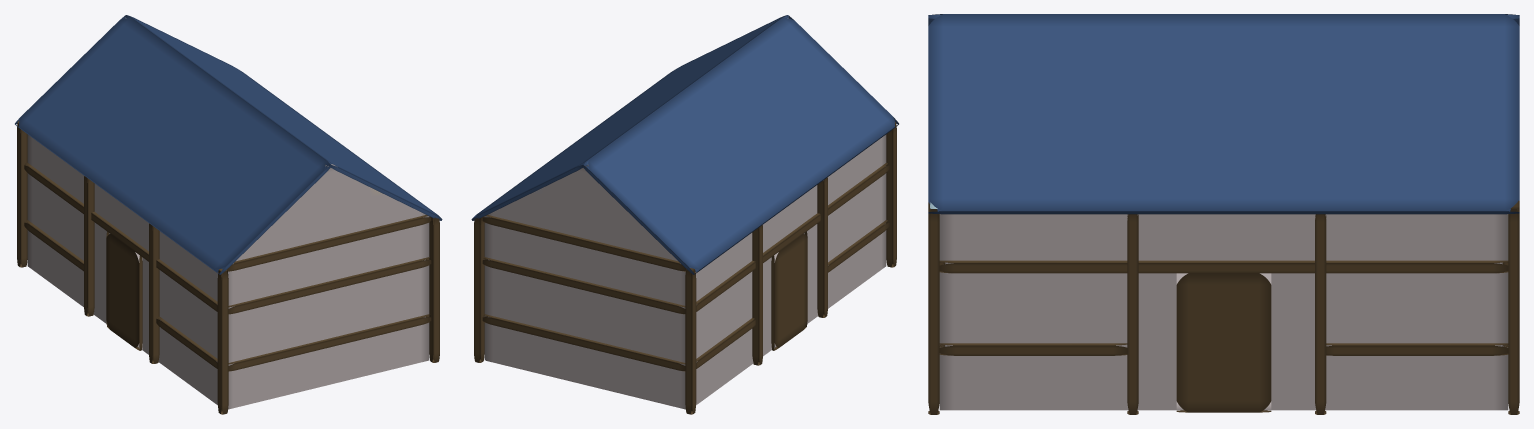
File: WismarHouse1.fbx
3 views of the same model, side by side, from view 1: azimuth 30°, elevation 25°; view 2: azimuth 150°, elevation 25°; view 3: azimuth 270°, elevation 25° (orthographic). The views are drawn at different scales.
Visible parts, largest first — view 1: house, roof, roof_1, door, hor, hor_7, hor_8, hor_9, vert_3, vert_6, vert, vert_2 (+2 smaller); view 2: house, roof, roof_1, door, hor, hor_5, hor_4, hor_6, vert_2, vert_4, vert_3, vert_1 (+2 smaller); view 3: roof_1, house, door, hor_3, hor_2, vert_4, vert_6, vert_7, vert_5, roof.
Boxes of the visible parts, bbox=[...] form: house: bbox=[27, 134, 429, 409]; roof: bbox=[15, 15, 331, 274]; roof_1: bbox=[125, 15, 442, 220]; door: bbox=[106, 231, 142, 350]; hor: bbox=[24, 163, 217, 311]; hor_7: bbox=[228, 314, 431, 371]; hor_8: bbox=[228, 257, 431, 314]; hor_9: bbox=[227, 215, 431, 271]; vert_3: bbox=[217, 268, 228, 414]; vert_6: bbox=[429, 217, 439, 362]; vert: bbox=[84, 176, 94, 316]; vert_2: bbox=[17, 121, 27, 267]; house: bbox=[484, 134, 886, 409]; roof: bbox=[582, 15, 898, 274]; roof_1: bbox=[471, 15, 788, 220]; door: bbox=[771, 231, 807, 350]; hor: bbox=[696, 163, 889, 311]; hor_5: bbox=[482, 314, 685, 371]; hor_4: bbox=[482, 257, 685, 314]; hor_6: bbox=[482, 215, 685, 271]; vert_2: bbox=[685, 268, 696, 414]; vert_4: bbox=[474, 217, 484, 362]; vert_3: bbox=[886, 122, 896, 267]; vert_1: bbox=[817, 177, 827, 317]; roof_1: bbox=[928, 14, 1519, 214]; house: bbox=[939, 214, 1508, 410]; door: bbox=[1176, 273, 1271, 412]; hor_3: bbox=[939, 260, 1508, 273]; hor_2: bbox=[939, 343, 1508, 355]; vert_4: bbox=[1508, 200, 1519, 414]; vert_6: bbox=[928, 202, 939, 414]; vert_7: bbox=[1127, 214, 1138, 414]; vert_5: bbox=[1315, 214, 1326, 414]; roof: bbox=[928, 14, 1519, 25].
Size of the model in its own units: 41.07 by 39.28 by 65.
1 material, 1 textured.
